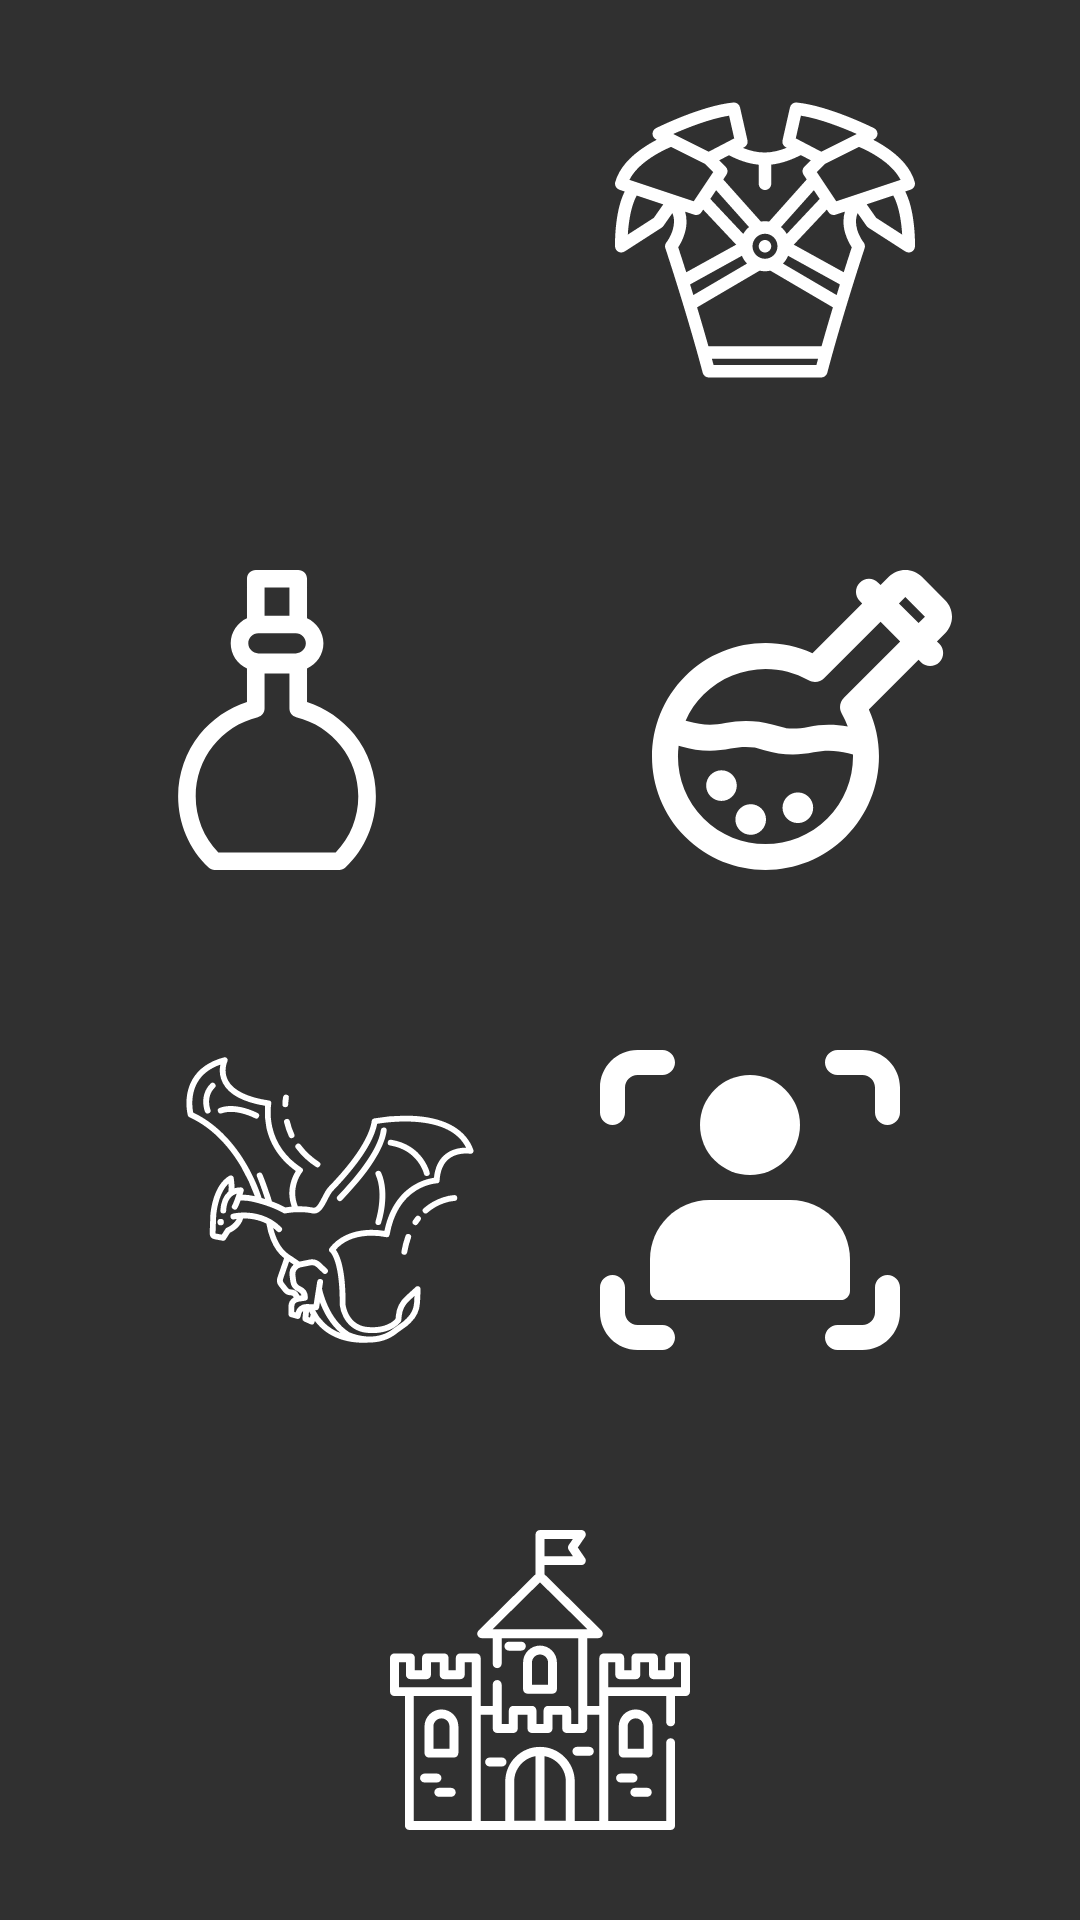

Icons on this 1080 x 1920 Android screen, each with its box as (x1, y1, x2, y2):
armor: (615, 102, 915, 378)
castle: (390, 1530, 690, 1830)
dragon: (186, 1057, 474, 1343)
potion: (178, 570, 376, 870), (652, 570, 952, 870)
user images: (600, 1050, 900, 1350)
